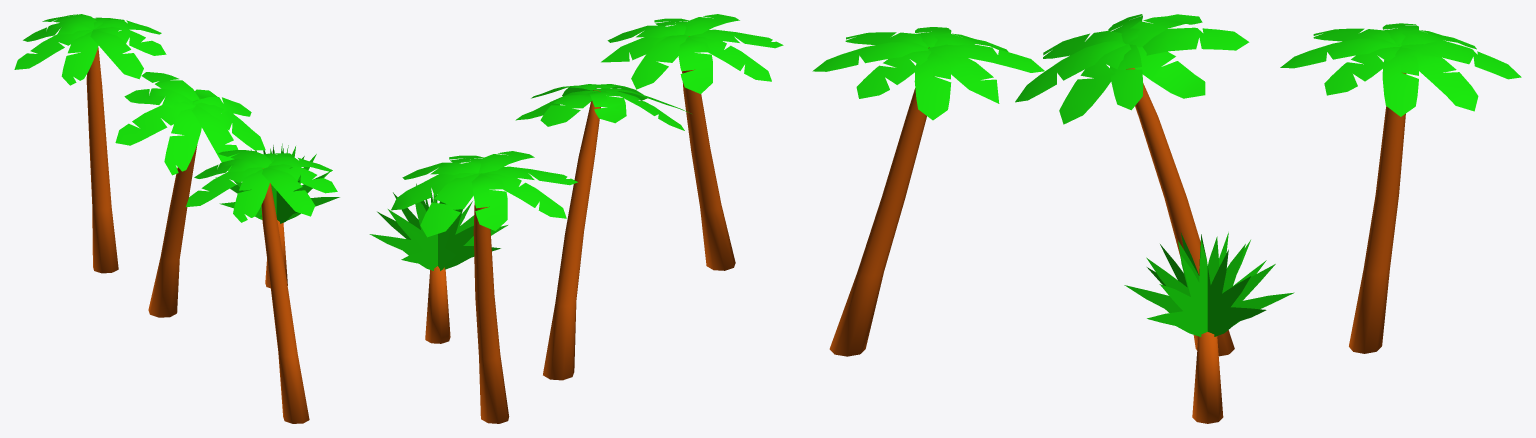
Rendered from Palm Tree.fbx.
The picture shows the model from 3 angles, left to right: view 1: azimuth 30°, elevation 25°; view 2: azimuth 150°, elevation 25°; view 3: azimuth 270°, elevation 25°; orthographic projection. The views are drawn at different scales.
Parts seen in each view (by area): view 1: CN Tree Body.003, CN Tree Body.002, CN Tree Body.001, Leaf-7.001, Leaf-2.001, Leaf-7.002, Leaf-7, Leaf-3.002, Leaf-3, Leaf-3.001, Leaf-2.002, Leaf-2 (+15 smaller); view 2: CN Tree Body.001, CN Tree Body.002, CN Tree Body.003, Leaf-1.002, Leaf-5.002, PN Tree Body.001, Leaf-5, Plane.005, Leaf-1, Plane.006, Leaf-2.002, Leaf-2 (+13 smaller); view 3: CN Tree Body.003, CN Tree Body.002, CN Tree Body.001, Plane.001, Plane.007, Plane.006, PN Tree Body.001, Leaf-8.001, Leaf-1.001, Leaf-4.002, Leaf-4, Leaf-6.001 (+15 smaller).
Part boxes in pixels (box(x1,y1,x2,y2)): CN Tree Body.003: box(261, 168, 309, 423); CN Tree Body.002: box(86, 47, 118, 273); CN Tree Body.001: box(148, 145, 197, 317); Leaf-7.001: box(164, 107, 201, 175); Leaf-2.001: box(115, 101, 194, 145); Leaf-7.002: box(61, 31, 98, 85); Leaf-7: box(233, 169, 269, 222); Leaf-3.002: box(90, 29, 143, 79); Leaf-3: box(262, 167, 315, 216); Leaf-3.001: box(192, 105, 238, 171); Leaf-2.002: box(14, 29, 92, 69); Leaf-2: box(186, 167, 262, 206); CN Tree Body.001: box(543, 90, 600, 380); CN Tree Body.002: box(473, 203, 509, 423); CN Tree Body.003: box(682, 36, 735, 270); Leaf-1.002: box(420, 173, 479, 237); Leaf-5.002: box(471, 173, 507, 230); PN Tree Body.001: box(425, 266, 450, 343); Leaf-5: box(677, 37, 712, 93); Plane.005: box(377, 183, 500, 269); Leaf-1: box(631, 34, 688, 89); Plane.006: box(369, 202, 507, 255); Leaf-2.002: box(479, 173, 566, 218); Leaf-2: box(688, 36, 771, 81); CN Tree Body.003: box(829, 47, 929, 356); CN Tree Body.002: box(1349, 72, 1406, 353); CN Tree Body.001: box(1126, 68, 1234, 356); Plane.001: box(1124, 236, 1294, 324); Plane.007: box(1147, 232, 1266, 336); Plane.006: box(1147, 233, 1266, 336); PN Tree Body.001: box(1192, 332, 1223, 423); Leaf-8.001: box(1059, 44, 1131, 124); Leaf-1.001: box(1142, 27, 1249, 55); Leaf-4.002: box(1382, 46, 1418, 116); Leaf-4: box(914, 52, 951, 120); Leaf-6.001: box(1134, 46, 1205, 98).
Bounding box in the file's own units: 2457 × 2261 × 4579.
